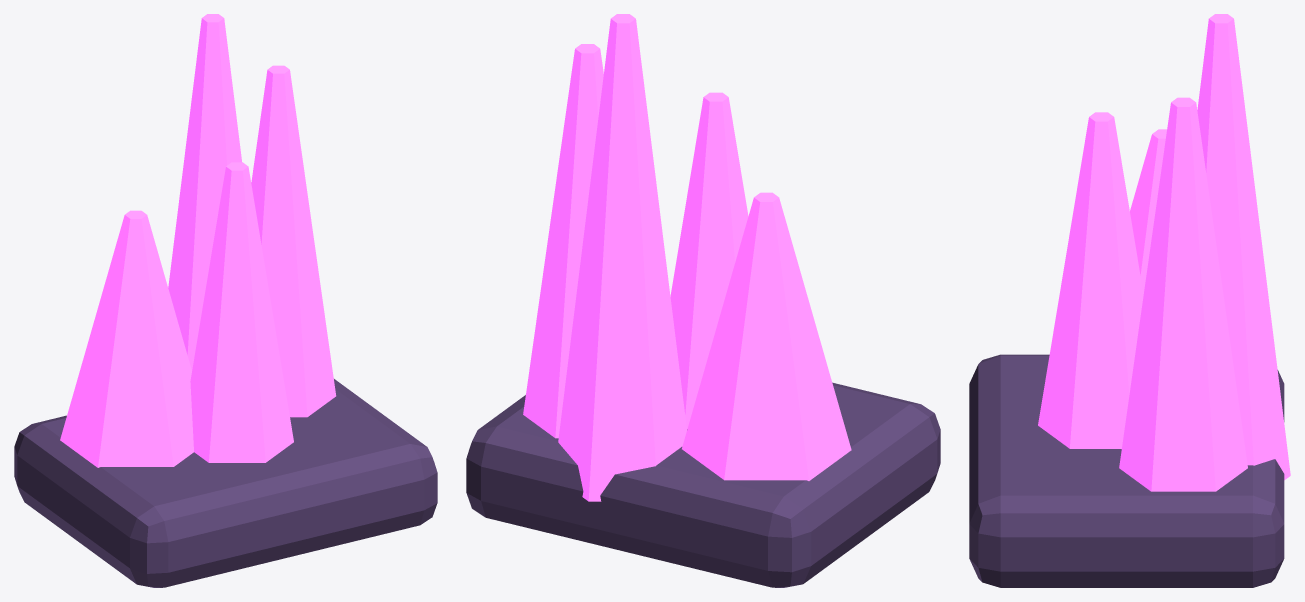
The model's file is crystal.glb.
3 views of the same model, side by side, from view 1: azimuth 30°, elevation 25°; view 2: azimuth 150°, elevation 25°; view 3: azimuth 270°, elevation 25° (orthographic). The views are drawn at different scales.
Parts seen in each view (by area): view 1: VoidCrystalMesh; view 2: VoidCrystalMesh; view 3: VoidCrystalMesh.
Part boxes in pixels (x1,y1,x2,y2): VoidCrystalMesh: (14,14,437,587); VoidCrystalMesh: (466,14,940,587); VoidCrystalMesh: (969,14,1290,587).
Size of the model in its own units: 1.25 by 1.8 by 1.02.
